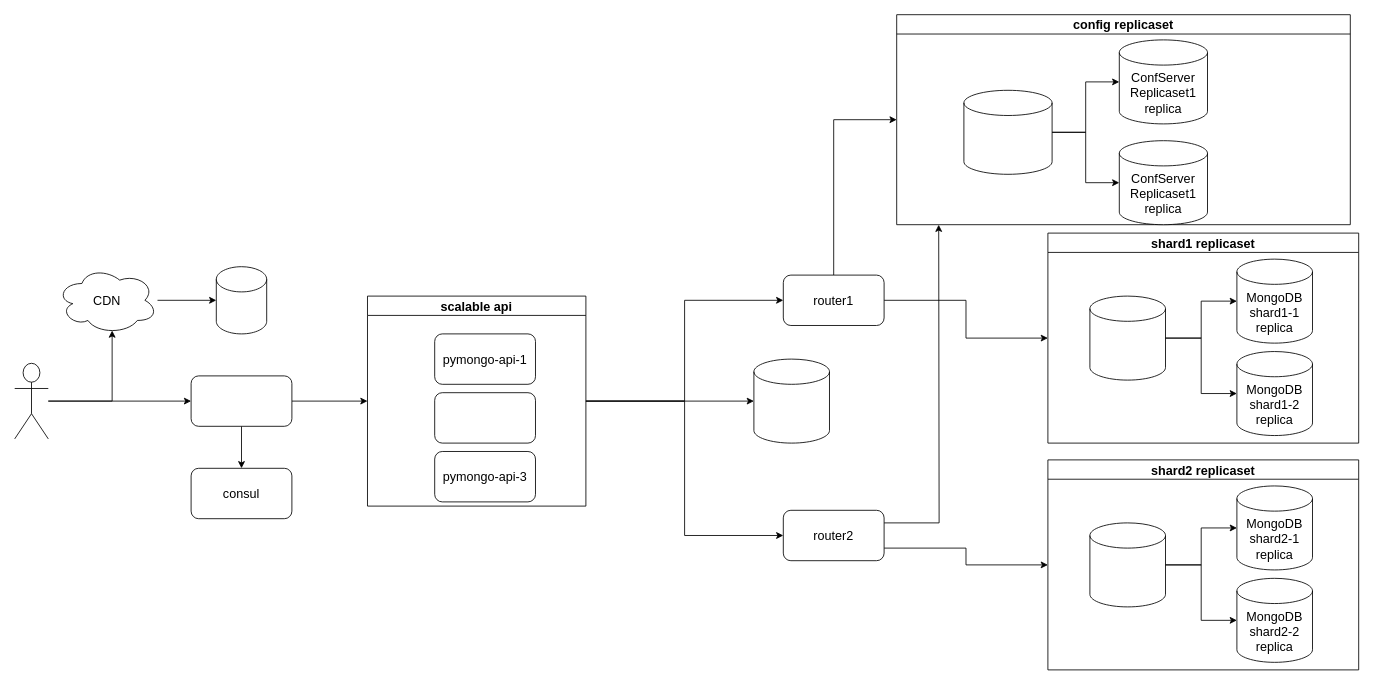
This 1373x685 diagram has some shape labels left out. The centre of each missing label's shape, as x and y in pixels:
"API Gateway" goes at point 241,400.
"Client" goes at point 31,400.
"ConfServer Replicaset1 master" goes at point 1007,131.
"MongoDB shard1-0 master" goes at point 1127,337.
"MongoDB shard2-0 master" goes at point 1127,564.
"pymongo-api-2" goes at point 485,417.
"Redis" goes at point 791,400.
"S3 with static" goes at point 241,300.
